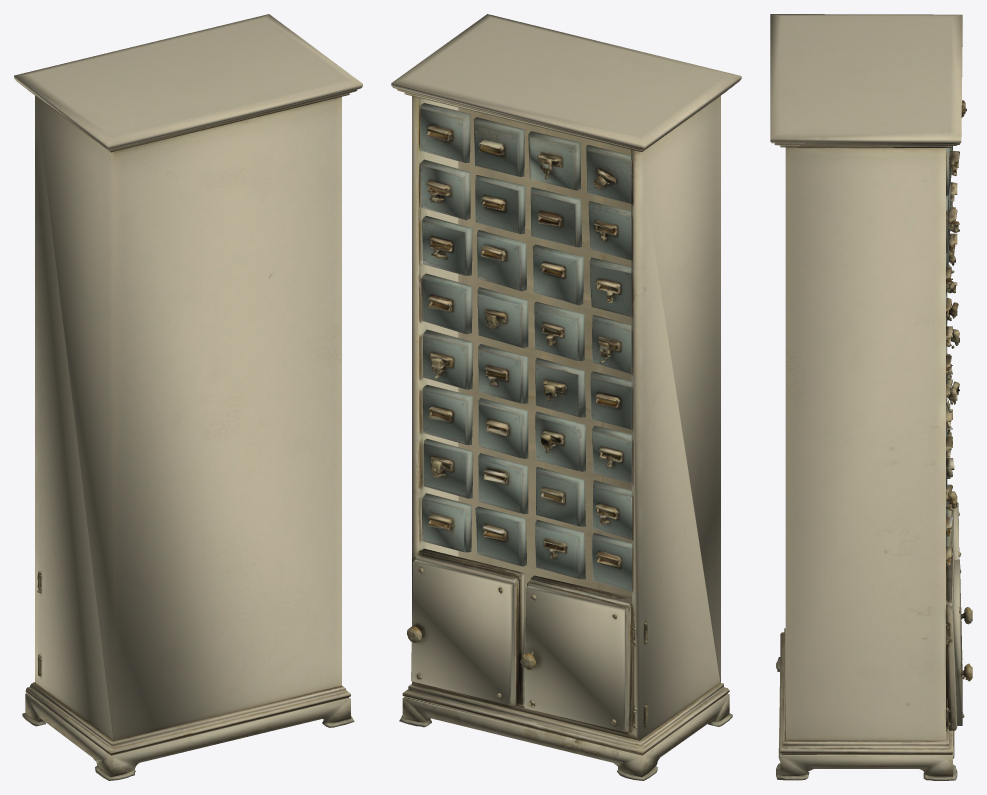
Rendered from theme-pharmacy-drawers-v05.glb.
3 views of the same model, side by side, from view 1: azimuth 30°, elevation 25°; view 2: azimuth 150°, elevation 25°; view 3: azimuth 270°, elevation 25° (orthographic).
Parts seen in each view (by area): view 1: tripo_node_d6092e1f-06b3-4554-844a-12b7bdc4c60b; view 2: tripo_node_d6092e1f-06b3-4554-844a-12b7bdc4c60b; view 3: tripo_node_d6092e1f-06b3-4554-844a-12b7bdc4c60b.
Boxes of the visible parts, x1,y1,x2,y2 form: tripo_node_d6092e1f-06b3-4554-844a-12b7bdc4c60b: [14, 14, 362, 780]; tripo_node_d6092e1f-06b3-4554-844a-12b7bdc4c60b: [391, 14, 741, 780]; tripo_node_d6092e1f-06b3-4554-844a-12b7bdc4c60b: [770, 14, 972, 780].
Bounding box in the file's own units: 0.7086 × 1.7 × 0.4824.
Materials: 1 (1 with a texture image).
